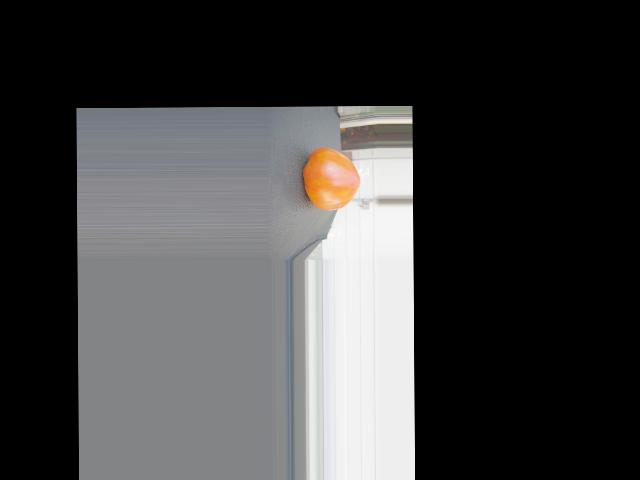tomato: (303, 147, 360, 210)
